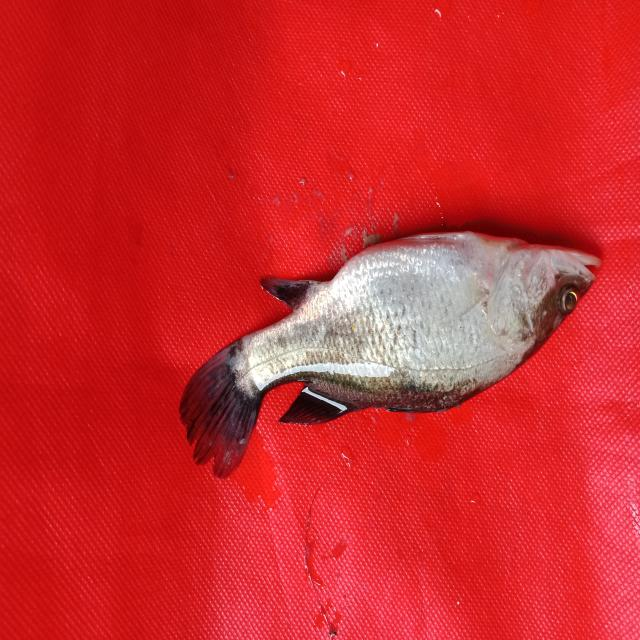ikan: (168, 203, 616, 486)
